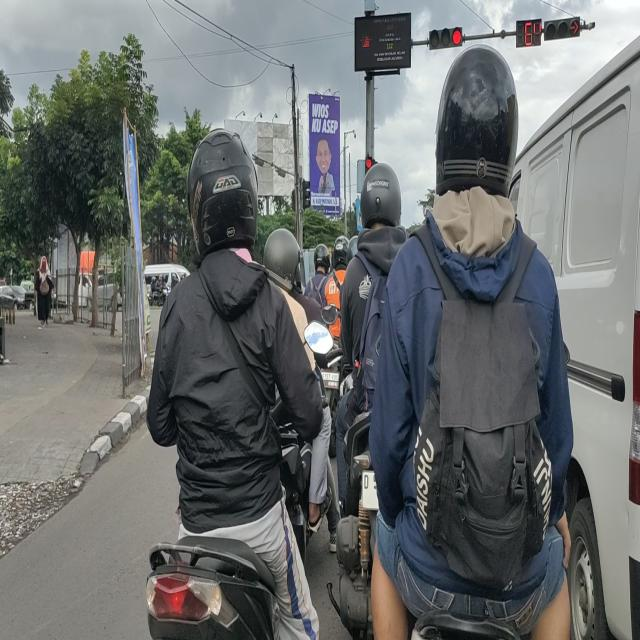helmet: (439, 43, 515, 199), (190, 133, 254, 249), (359, 164, 402, 238), (269, 228, 300, 287), (312, 240, 330, 271), (333, 237, 350, 267)
